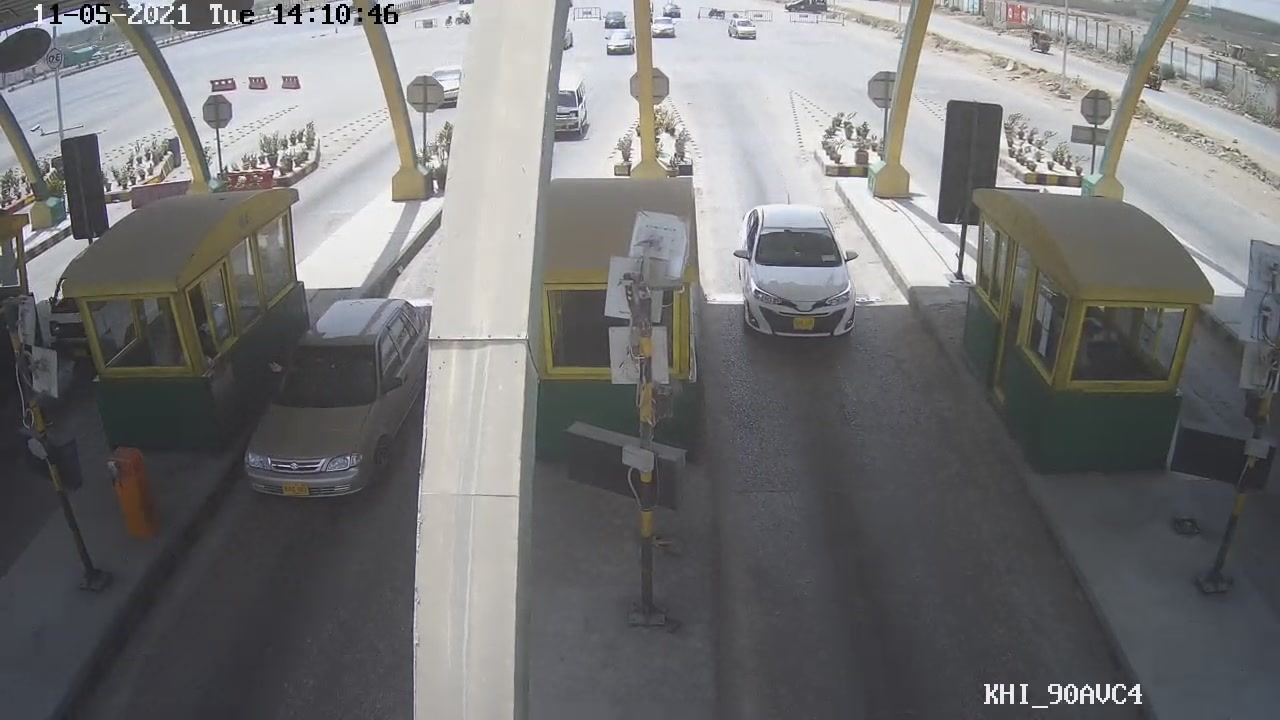F1: (725, 192, 860, 346)
